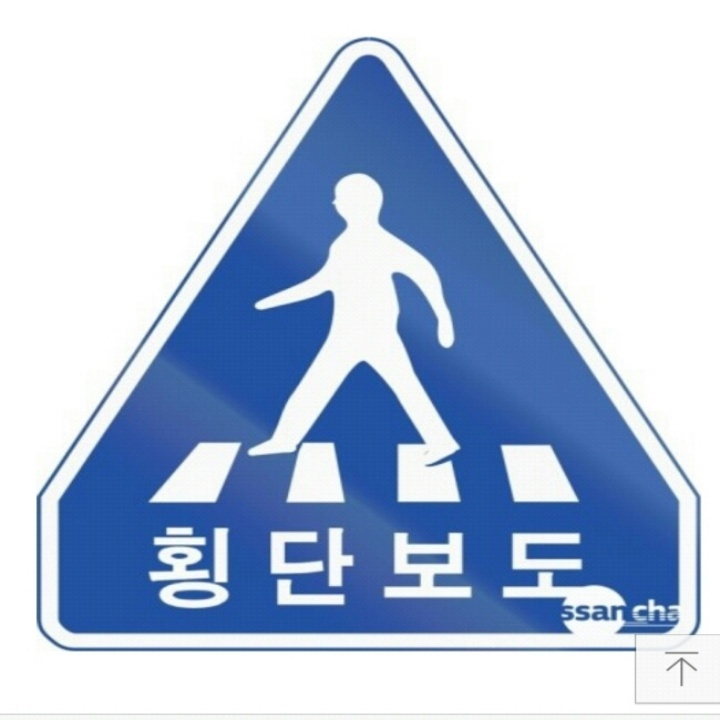cross: (197, 147, 535, 485)
